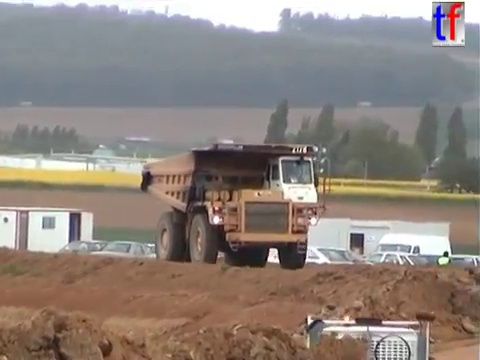truck: (137, 140, 334, 271), (297, 310, 437, 360)
worker: (435, 248, 454, 284)
